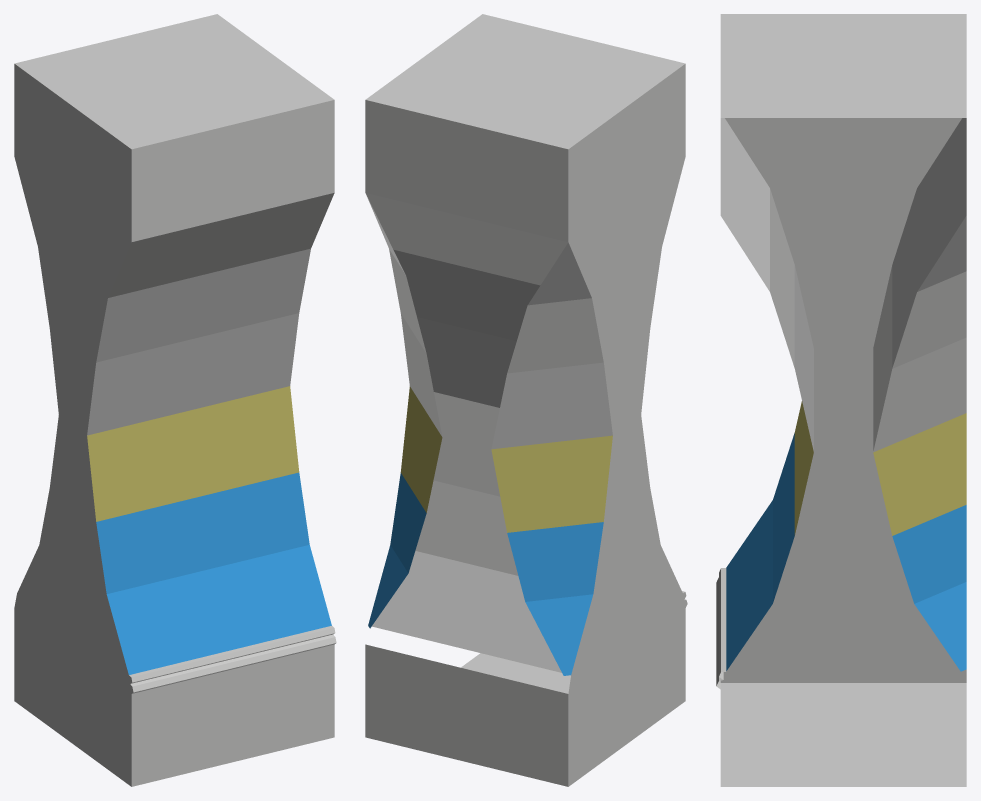
The model's file is SM_Wall_T_Conector_Twoside.v2.fbx.
The picture shows the model from 3 angles, left to right: view 1: azimuth 30°, elevation 25°; view 2: azimuth 150°, elevation 25°; view 3: azimuth 270°, elevation 25°; orthographic projection. The views are drawn at different scales.
Parts seen in each view (by area): view 1: SM_Wall_DoubleSide.004; view 2: SM_Wall_DoubleSide.004; view 3: SM_Wall_DoubleSide.004.
Part boxes in pixels (x1,y1,x2,y2): SM_Wall_DoubleSide.004: (14,14,336,786); SM_Wall_DoubleSide.004: (365,14,687,786); SM_Wall_DoubleSide.004: (716,14,966,786).
Bounding box in the file's own units: 200 × 600 × 203.
